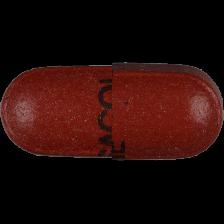55154-2305: (0, 0, 224, 224)
